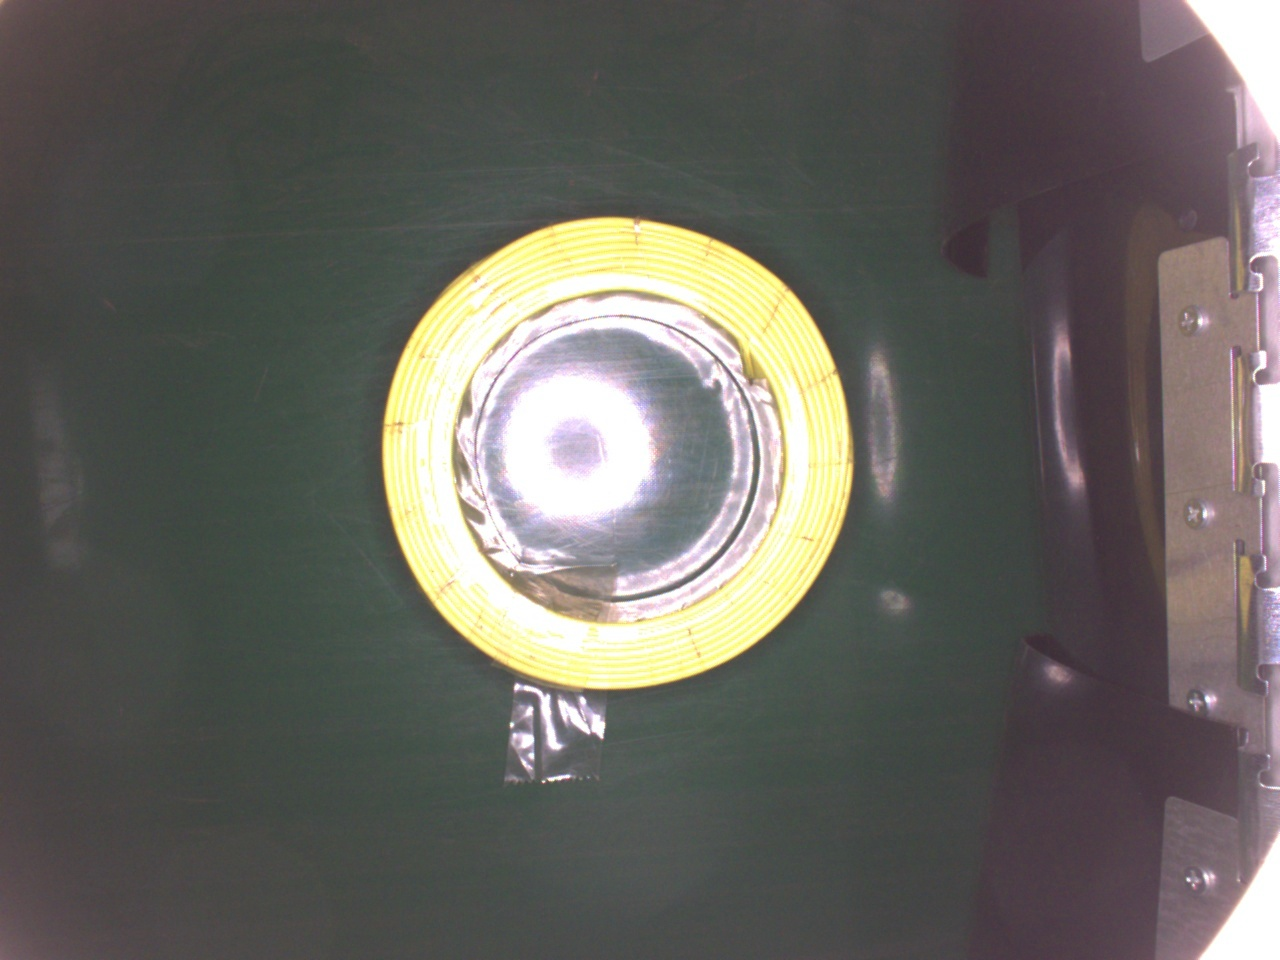yellow: (378, 214, 854, 690)
